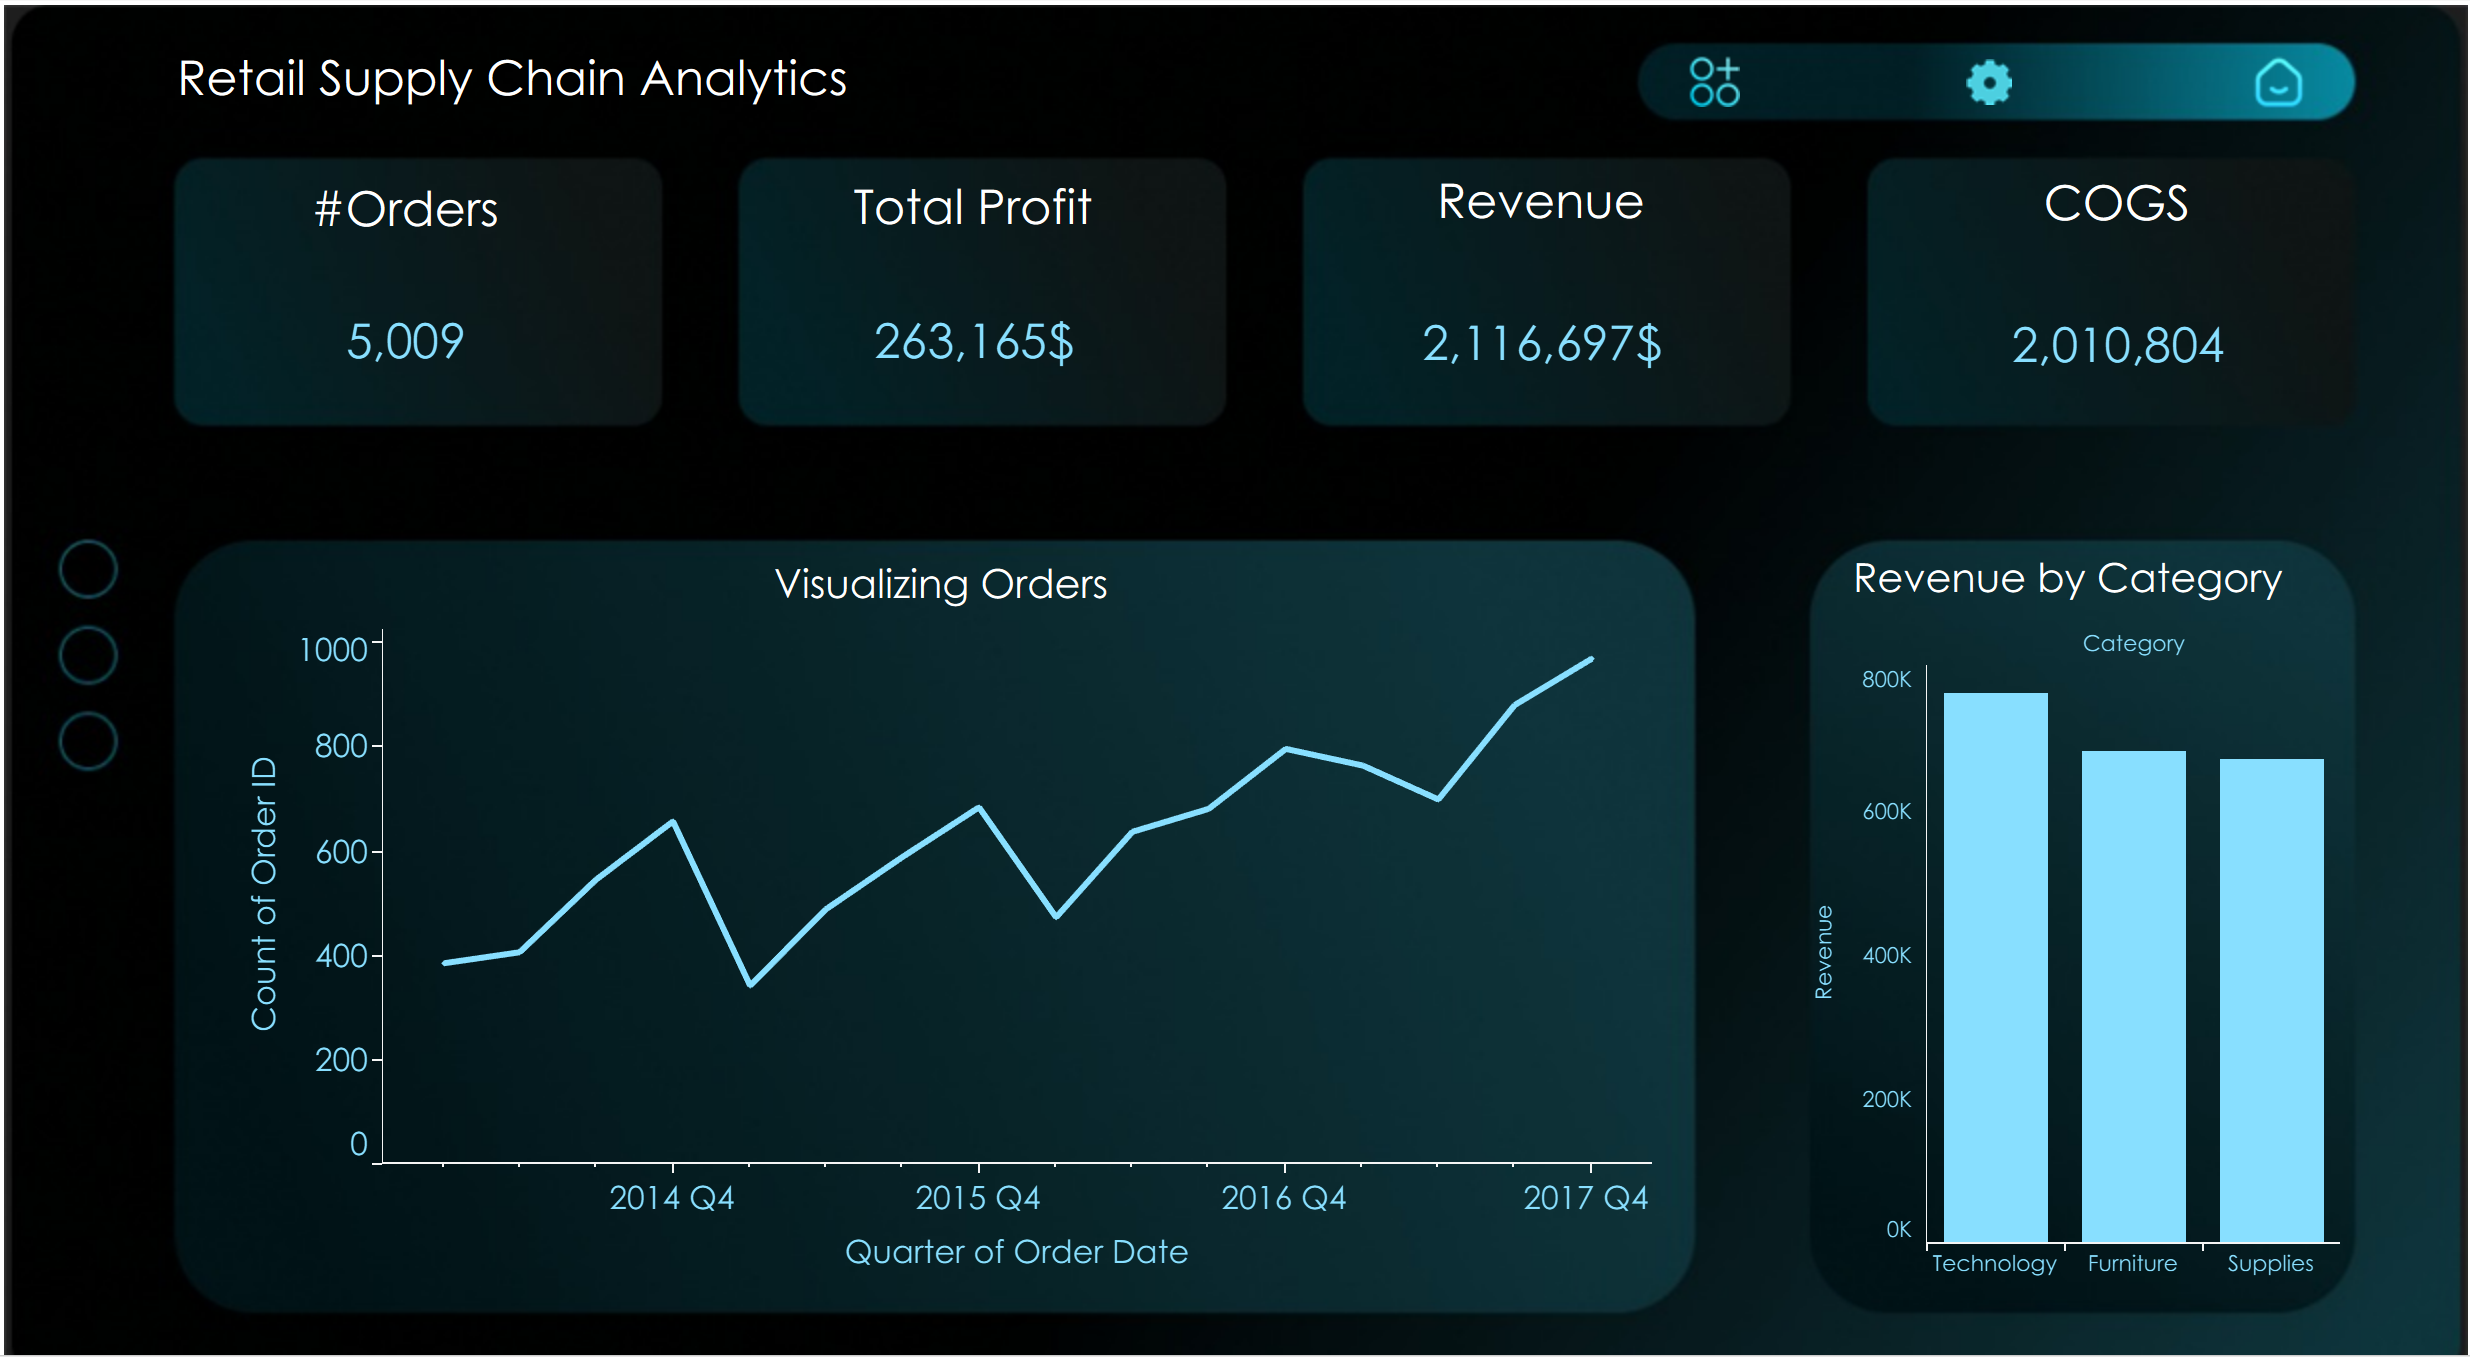

Layout of this report page (visuals, bound fields, positions):
{"tool":"tableau","page":{"name":"Overview ","canvas":[1280,720],"ordinal":1},"visuals":[{"type":"image","param":"Image/c62beb59-c3a0-498c-a12f-f4a8f3692667.jpg","box":[8,8,1264,704]},{"type":"text","box":[96,33,359,30]},{"type":"image","param":"Image/home_18976962.png","box":[1135,36,35,28]},{"type":"image","param":"Image/application_5718124.png","box":[854,37,26,28]},{"type":"image","param":"Image/settings_759614.png","box":[993,39,23,23]},{"type":"worksheet","title":"Revenue","mark":"Automatic","box":[676,91,209,136]},{"type":"worksheet","title":"COGS","mark":"Automatic","box":[976,92,185,135]},{"type":"worksheet","title":"Total Profit","mark":"Automatic","box":[400,94,193,127]},{"type":"worksheet","title":"#Orders","mark":"Automatic","box":[108,95,209,126]},{"type":"worksheet","title":"Revenue by Category","mark":"Automatic","rows":["Sales"],"cols":["Category"],"box":[908,282,272,369]},{"type":"worksheet","title":"Visualizing Orders","mark":"Automatic","rows":["Order ID"],"cols":["Order Date"],"box":[125,285,711,367]}]}

Visuals, with their boxes in screenshot pixels (x1, y1, x2, y2), scaled from the page's 1280x720 canvas onto the 2470x1357 screenshot:
image: box(15, 15, 2455, 1342)
text: box(185, 62, 878, 119)
image: box(2190, 68, 2258, 121)
image: box(1648, 70, 1698, 123)
image: box(1916, 74, 1961, 117)
"Revenue" worksheet: box(1304, 172, 1708, 428)
"COGS" worksheet: box(1883, 173, 2240, 428)
"Total Profit" worksheet: box(772, 177, 1144, 417)
"#Orders" worksheet: box(208, 179, 612, 417)
"Revenue by Category" worksheet: box(1752, 531, 2277, 1227)
"Visualizing Orders" worksheet: box(241, 537, 1613, 1229)
